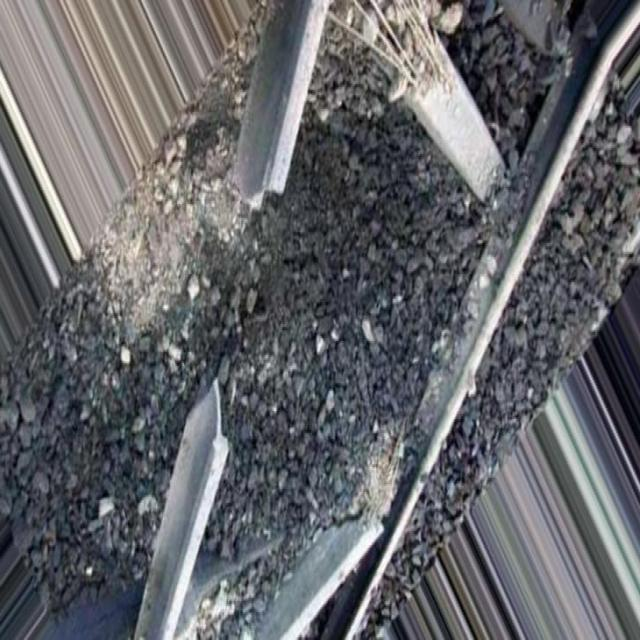crack: (188, 127, 302, 483)
